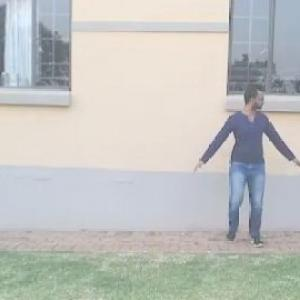land: (189, 76, 294, 255)
